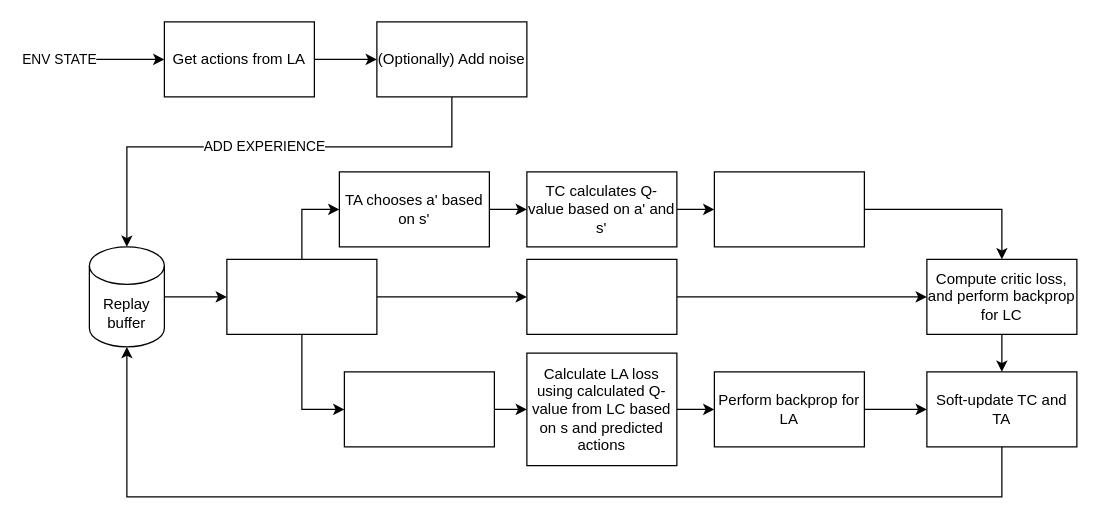
This 1099x529 diagram has some shape labels left out. The shapes that lost their labels are listed below. From the top down, each one's centre as x and y in pixels, then its label:
the point at 788,209: Calculate Q-target
the point at 301,296: Every t steps sample n experiences from the replay buffer
the point at 601,296: Calculate Q-expected from LC based on s and a
the point at 418,409: LA predicts actions based on s
